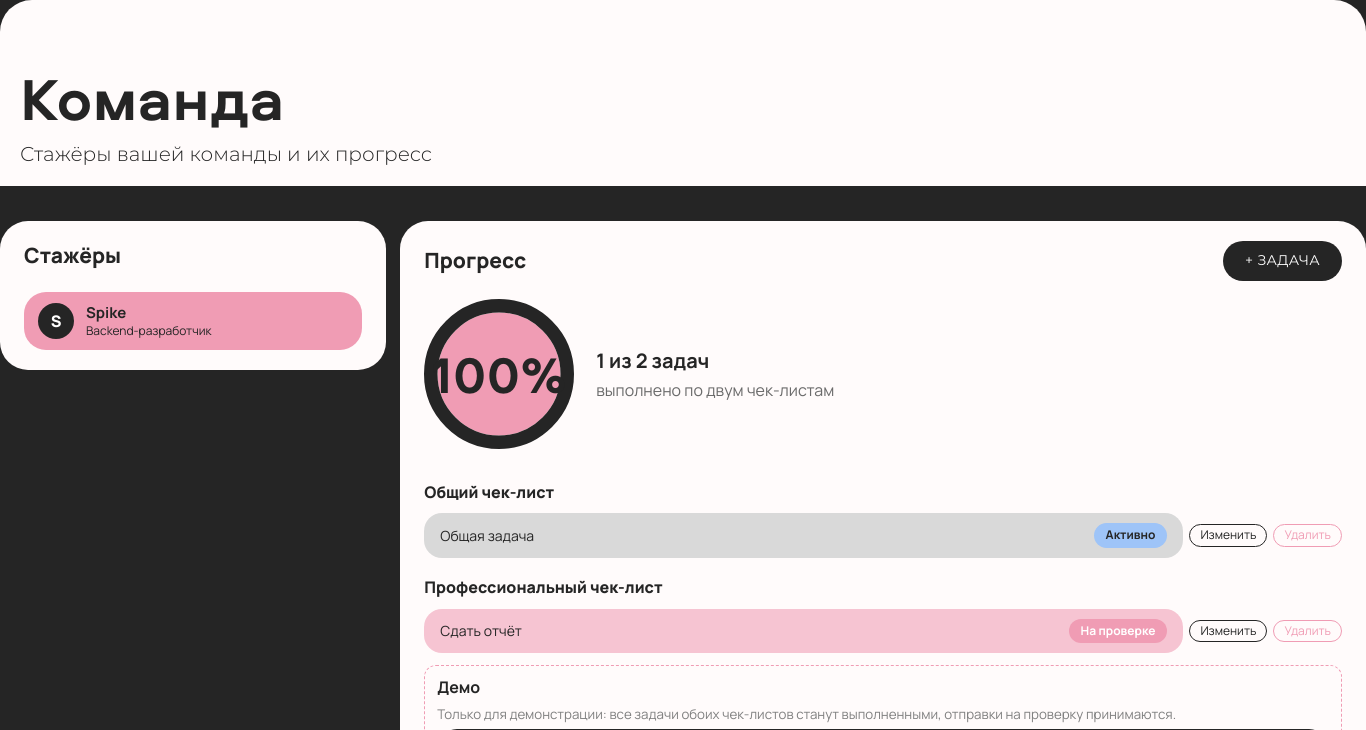
Команда руководителя › удаляет задачу только после подтверждения; 409 даёт понятное сообщение
Click the button with aria-label "Удалить задачу «Общая задача»" at (1308, 536), box x1=1273 y1=524 x2=1342 y2=547
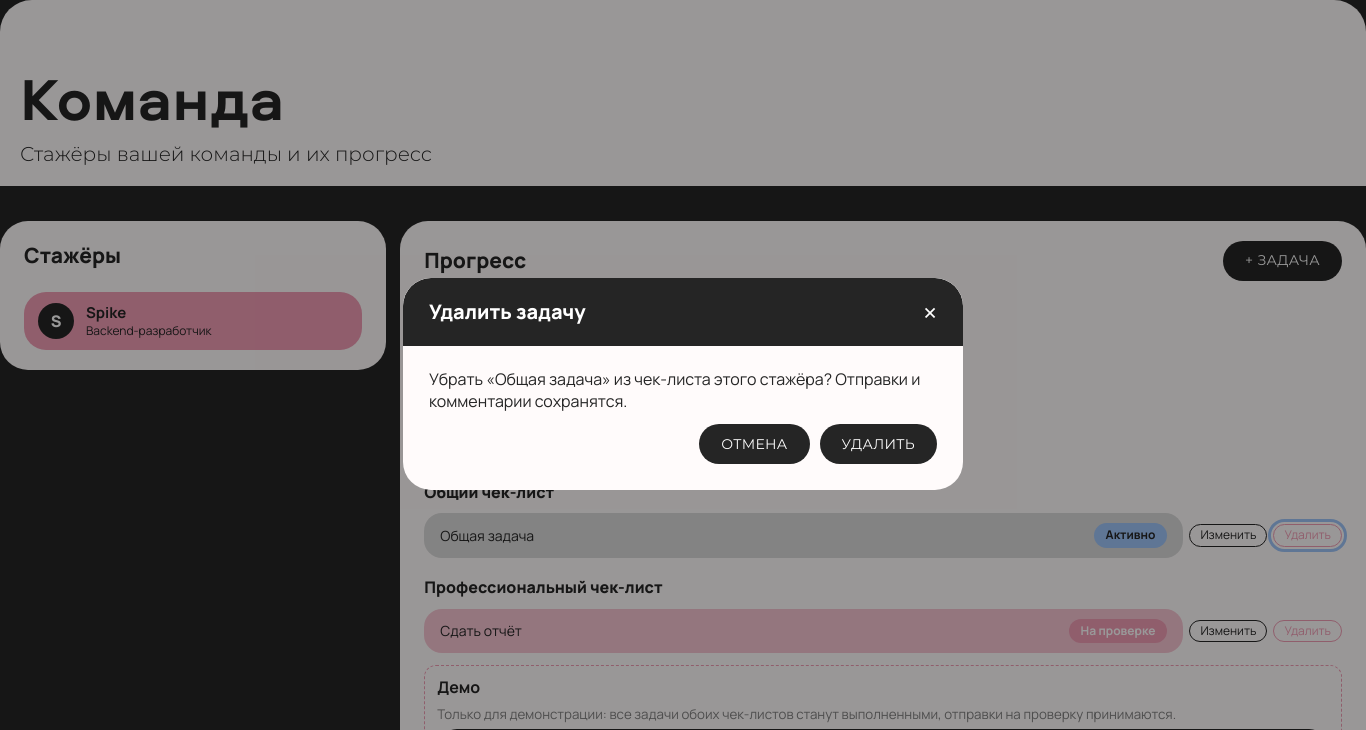
Click the button "Удалить" at (878, 444), box x1=820 y1=424 x2=937 y2=464
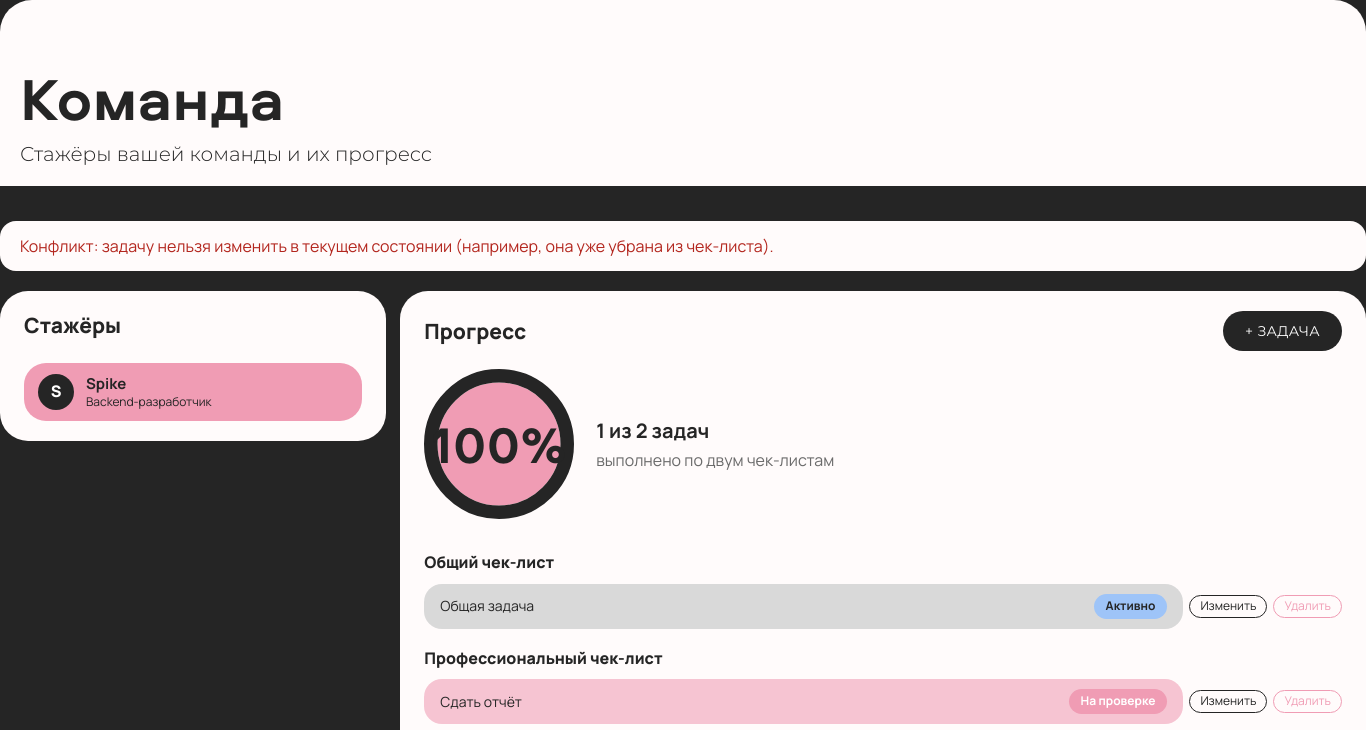
Now the message shows "Конфликт", box x1=20 y1=235 x2=774 y2=257
